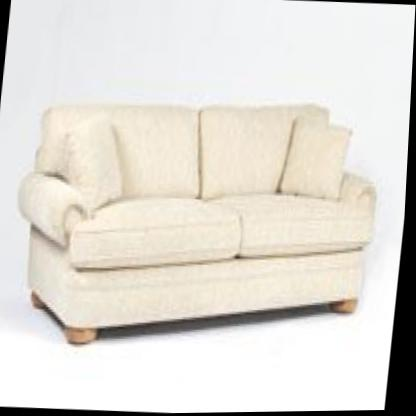Sofa: (6, 90, 392, 363)
